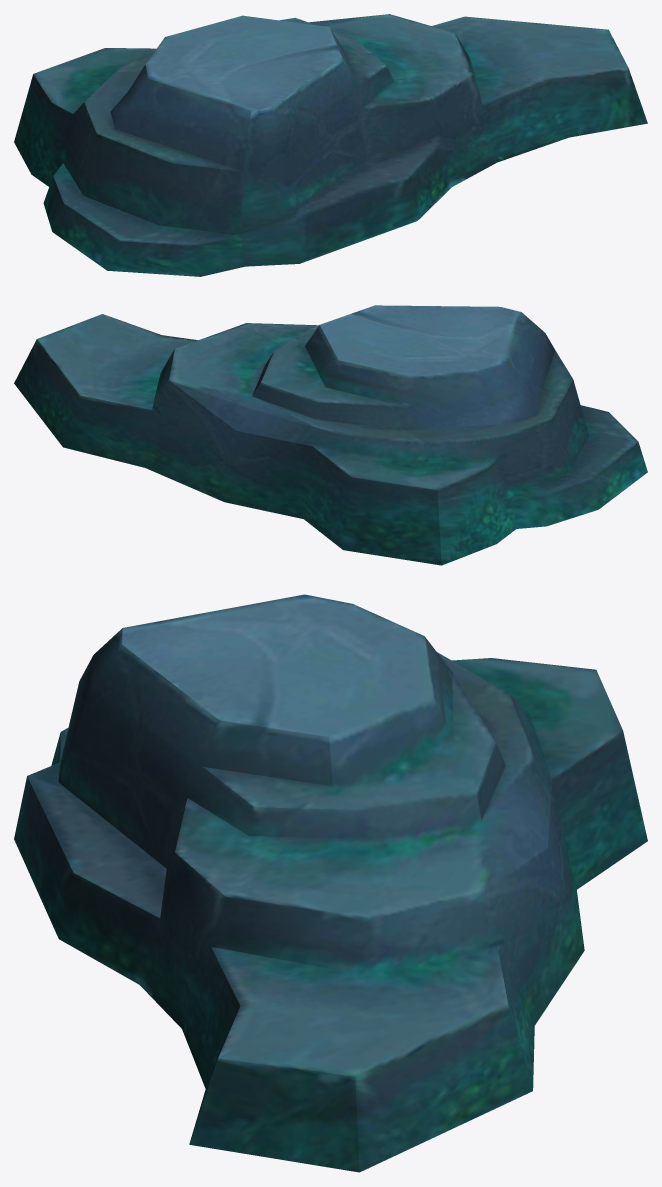
Rendered from map_113_shitou_4.fbx.
The picture shows the model from 3 angles, top to bottom: view 1: azimuth 30°, elevation 25°; view 2: azimuth 150°, elevation 25°; view 3: azimuth 270°, elevation 25°; orthographic projection. The views are drawn at different scales.
Visible parts, largest first — view 1: map_113_shitou_4; view 2: map_113_shitou_4; view 3: map_113_shitou_4.
Part boxes in pixels (x1,y1,x2,y2): map_113_shitou_4: (14,14,647,276); map_113_shitou_4: (14,305,647,565); map_113_shitou_4: (14,594,647,1172).
Bounding box in the file's own units: 4.35 × 0.91 × 2.59.
